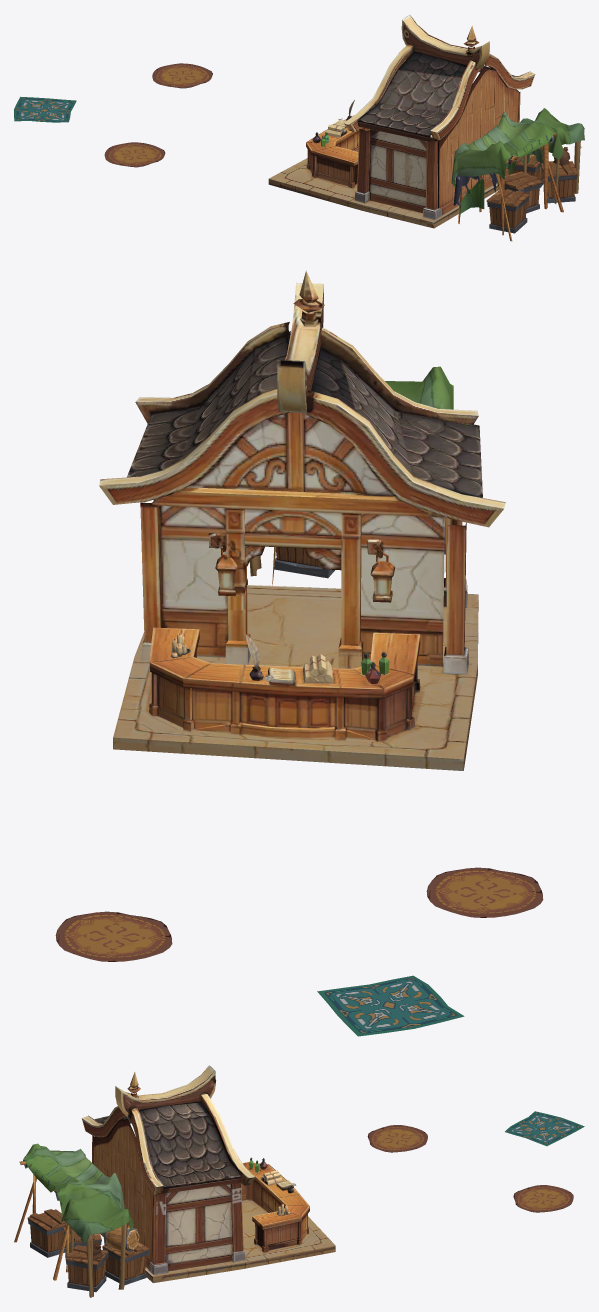
The model's file is MainCityDecor_Guild_Town.glb.
The picture shows the model from 3 angles, top to bottom: view 1: azimuth 30°, elevation 25°; view 2: azimuth 150°, elevation 25°; view 3: azimuth 270°, elevation 25°; orthographic projection. The views are drawn at different scales.
Parts seen in each view (by area): view 1: EnvMaincity_Detail__Mission_Spot__u4657128925202703244, MMarket_Pavillion_Tent_LOD2__u1415360925326009228, EnvCampsite_Detail__Rug__2__un1772333049991765108, MMarket_Pavillion_Tent_LOD2__u5877227255656113036, EnvCampsite_Detail__Box___2_2__un584690792552897652, EnvCampsite_Detail__Rug__3_2__u2580321307641865100, EnvCampsite_Detail__Rug__3__un1403150398207204468, MMarket_Stall_Sml_LOD0__un2956049775941688436, EnvCampsite_Detail__Box___2_3__un8131305861969976436, MMarket_Stall_Sml_LOD0__u7548308090419569548, EnvCampsite_Detail__Box___2_1__u1521193084263555980, EnvCampsite_Detail__Box___2_1__u122314980600931212; view 2: EnvMaincity_Detail__Mission_Spot__u4657128925202703244, EnvCampsite_Detail__Rug__2__un1772333049991765108, EnvCampsite_Detail__Rug__3__un1403150398207204468, EnvCampsite_Detail__Rug__3_2__u2580321307641865100, MMarket_Pavillion_Tent_LOD2__u1415360925326009228, EnvCampsite_Detail__Box___2_1__u122314980600931212; view 3: EnvMaincity_Detail__Mission_Spot__u4657128925202703244, MMarket_Pavillion_Tent_LOD2__u5877227255656113036, MMarket_Stall_Sml_LOD0__u7548308090419569548, EnvCampsite_Detail__Rug__2__un1772333049991765108, EnvCampsite_Detail__Box___2_2__un584690792552897652, EnvCampsite_Detail__Box___2_3__un8309199032854748276, EnvCampsite_Detail__Rug__3__un1403150398207204468, EnvCampsite_Detail__Rug__3_2__u2580321307641865100, EnvCampsite_Detail__Box___2__u6753253976780006284, EnvCampsite_Detail__Cask__2_1__un8375036159360277620, MMarket_Pavillion_Tent_LOD2__u1415360925326009228.
Part boxes in pixels (x1,y1,x2,y2): EnvMaincity_Detail__Mission_Spot__u4657128925202703244: (268,14,535,228); MMarket_Pavillion_Tent_LOD2__u1415360925326009228: (451,112,562,241); EnvCampsite_Detail__Rug__2__un1772333049991765108: (14,96,76,122); MMarket_Pavillion_Tent_LOD2__u5877227255656113036: (460,120,563,234); EnvCampsite_Detail__Box___2_2__un584690792552897652: (486,189,529,233); EnvCampsite_Detail__Rug__3_2__u2580321307641865100: (152,63,212,88); EnvCampsite_Detail__Rug__3__un1403150398207204468: (104,142,165,167); MMarket_Stall_Sml_LOD0__un2956049775941688436: (520,108,584,203); EnvCampsite_Detail__Box___2_3__un8131305861969976436: (541,164,577,203); MMarket_Stall_Sml_LOD0__u7548308090419569548: (521,109,584,201); EnvCampsite_Detail__Box___2_1__u1521193084263555980: (497,171,542,213); EnvCampsite_Detail__Box___2_1__u122314980600931212: (504,171,541,207); EnvMaincity_Detail__Mission_Spot__u4657128925202703244: (99,270,505,770); EnvCampsite_Detail__Rug__2__un1772333049991765108: (317,975,464,1036); EnvCampsite_Detail__Rug__3__un1403150398207204468: (426,867,543,917); EnvCampsite_Detail__Rug__3_2__u2580321307641865100: (55,911,172,961); MMarket_Pavillion_Tent_LOD2__u1415360925326009228: (263,366,453,583); EnvCampsite_Detail__Box___2_1__u122314980600931212: (274,547,328,578); EnvMaincity_Detail__Mission_Spot__u4657128925202703244: (81,1065,335,1282); MMarket_Pavillion_Tent_LOD2__u5877227255656113036: (14,1143,124,1280); MMarket_Stall_Sml_LOD0__u7548308090419569548: (61,1190,133,1297); EnvCampsite_Detail__Rug__2__un1772333049991765108: (505,1111,584,1146); EnvCampsite_Detail__Box___2_2__un584690792552897652: (27,1209,66,1257); EnvCampsite_Detail__Box___2_3__un8309199032854748276: (65,1245,108,1292); EnvCampsite_Detail__Rug__3__un1403150398207204468: (367,1125,427,1152); EnvCampsite_Detail__Rug__3_2__u2580321307641865100: (513,1185,573,1212); EnvCampsite_Detail__Box___2__u6753253976780006284: (102,1242,149,1285); EnvCampsite_Detail__Cask__2_1__un8375036159360277620: (103,1225,139,1251); MMarket_Pavillion_Tent_LOD2__u1415360925326009228: (24,1150,113,1197).
Bounding box in the file's own units: 11.91 × 5.46 × 15.48.
8 materials, 8 textured.
